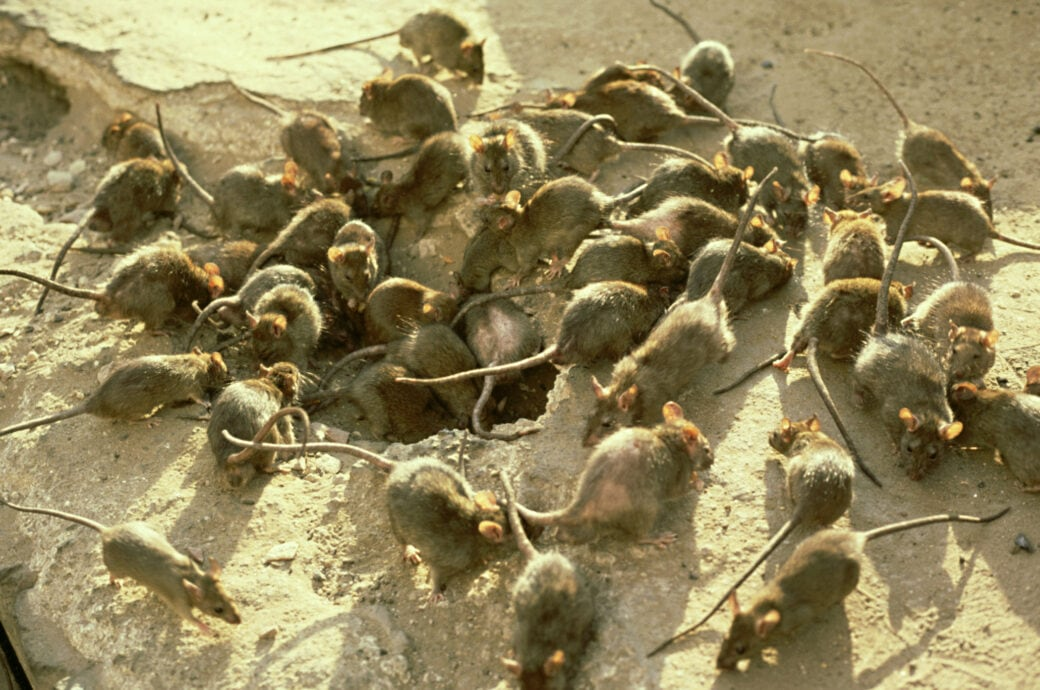rat: (7, 475, 258, 658), (572, 254, 744, 466), (697, 524, 890, 682), (1, 222, 243, 347), (530, 395, 719, 548), (27, 149, 194, 319), (340, 444, 516, 600), (835, 305, 976, 493), (2, 338, 243, 435), (488, 514, 616, 690), (858, 98, 1015, 228), (266, 9, 501, 93), (750, 407, 878, 549), (198, 351, 324, 486), (710, 105, 845, 225), (191, 137, 333, 251), (222, 275, 343, 384), (454, 109, 567, 206), (342, 67, 477, 148), (316, 200, 404, 322)
